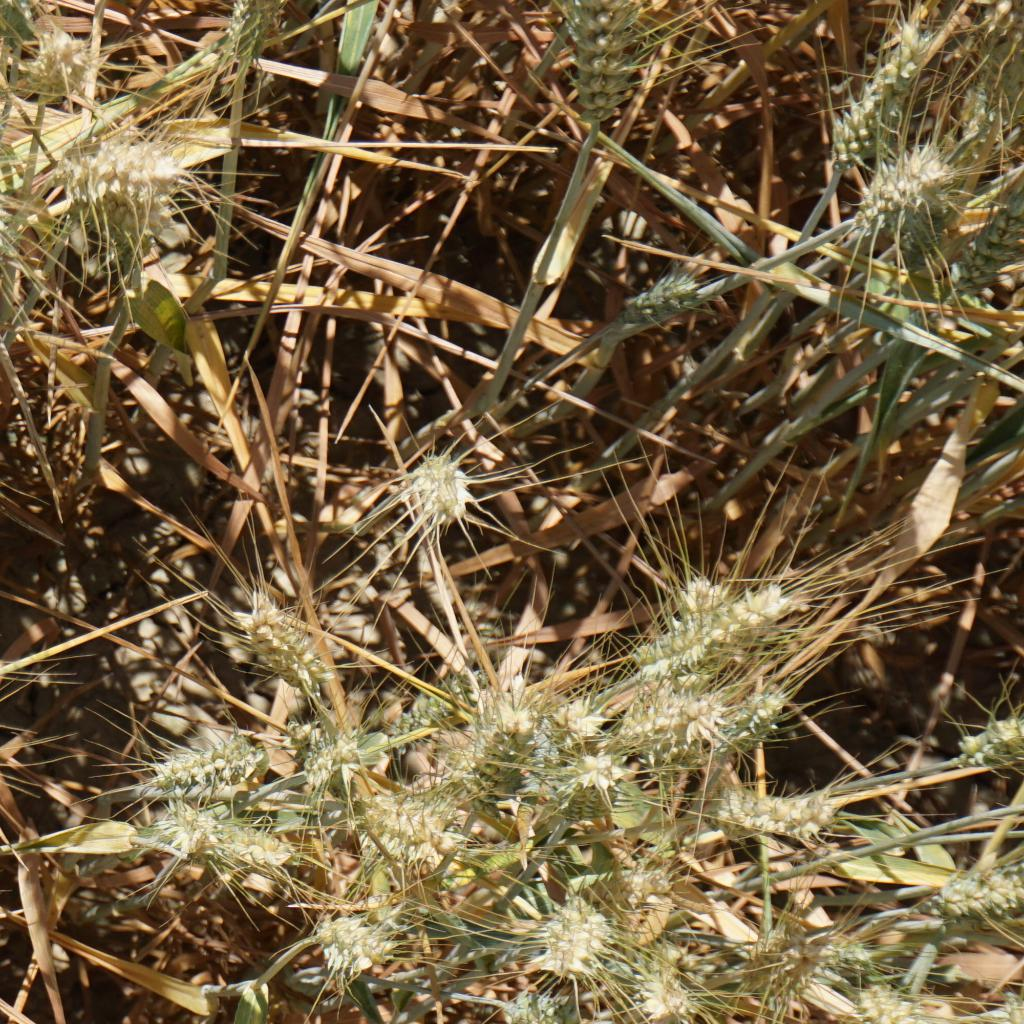0-0: (45, 132, 195, 218), (813, 27, 921, 145), (83, 123, 166, 275), (231, 585, 335, 704), (652, 564, 741, 699), (553, 0, 641, 131), (629, 594, 793, 662), (459, 700, 542, 825), (695, 777, 843, 844), (144, 729, 275, 801), (885, 170, 966, 285), (307, 892, 415, 977), (564, 852, 688, 925), (397, 656, 483, 760), (163, 799, 273, 878), (953, 164, 1024, 286), (731, 922, 824, 1010), (861, 141, 954, 224), (957, 38, 1024, 143), (398, 443, 476, 532), (363, 799, 459, 870), (920, 849, 1024, 914), (608, 681, 695, 758), (608, 259, 694, 335), (709, 686, 785, 768), (627, 939, 700, 1024), (16, 37, 96, 110), (532, 894, 602, 977), (294, 719, 371, 790), (946, 712, 1024, 778), (555, 745, 617, 826), (852, 985, 963, 1024), (809, 918, 882, 972), (227, 0, 280, 73), (505, 986, 606, 1024), (0, 140, 29, 265), (552, 685, 609, 742)
